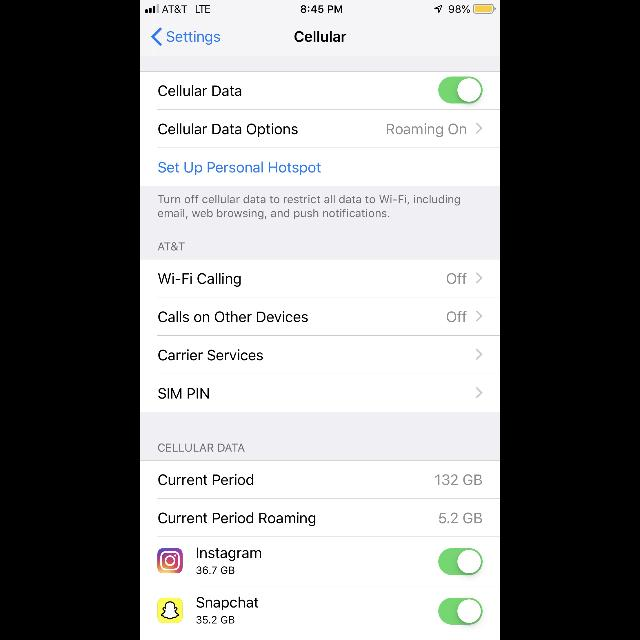icon: (152, 28, 162, 46), (476, 310, 482, 322), (476, 272, 482, 284), (476, 348, 482, 359), (476, 388, 482, 398), (476, 124, 482, 134)
image: (158, 548, 182, 574), (158, 598, 182, 622)
switch: (439, 548, 483, 576), (439, 76, 483, 104), (439, 598, 483, 624)
text: (158, 194, 460, 220), (158, 512, 316, 526), (159, 162, 321, 175), (158, 123, 298, 137), (158, 312, 308, 322), (158, 474, 254, 486), (159, 273, 241, 287), (386, 123, 466, 137), (159, 350, 263, 360), (158, 85, 242, 96), (197, 596, 259, 610), (197, 548, 261, 560), (168, 31, 220, 45), (158, 443, 244, 451), (436, 474, 482, 486), (295, 32, 347, 42), (158, 388, 210, 398), (440, 512, 482, 524), (196, 566, 234, 574), (197, 616, 235, 624), (446, 310, 468, 322), (446, 272, 466, 284), (158, 243, 186, 251)
uppertaskbar: (140, 0, 500, 14)
